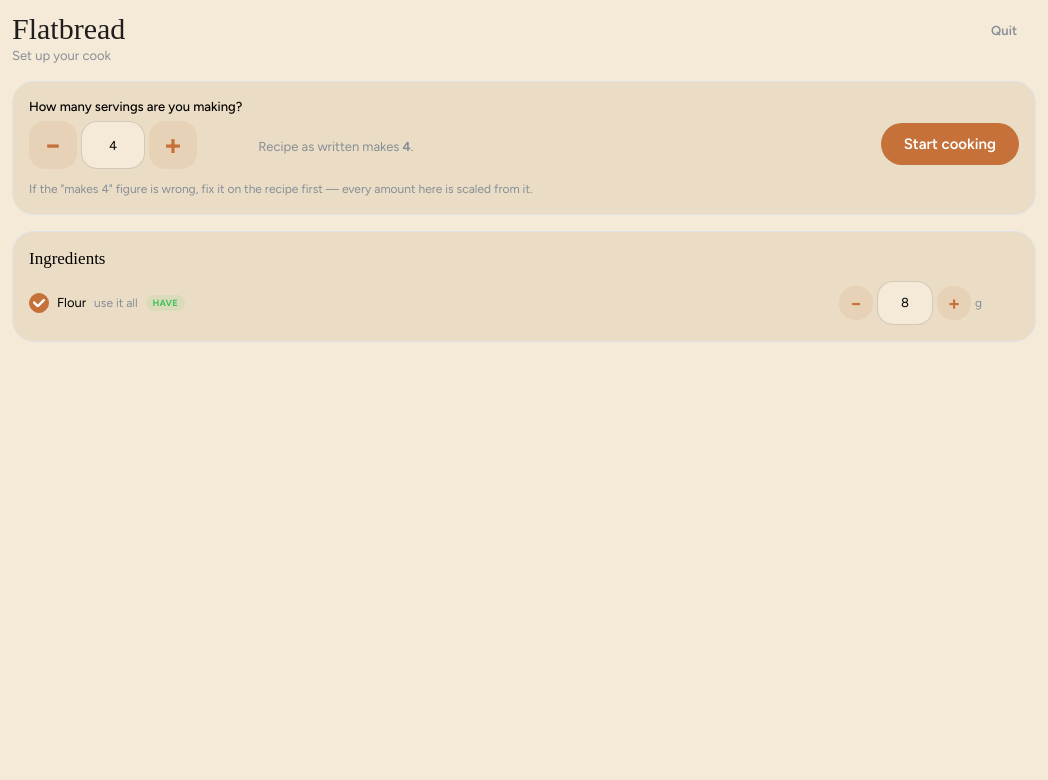
Test: CookAlongPage › does not touch the pantry until Finish
The image size is (1048, 780).
Expected: the heading "Flatbread" is shown, [12,12,125,46]
Click the button "Start cooking" at point(950, 144), box [881,123,1019,165]
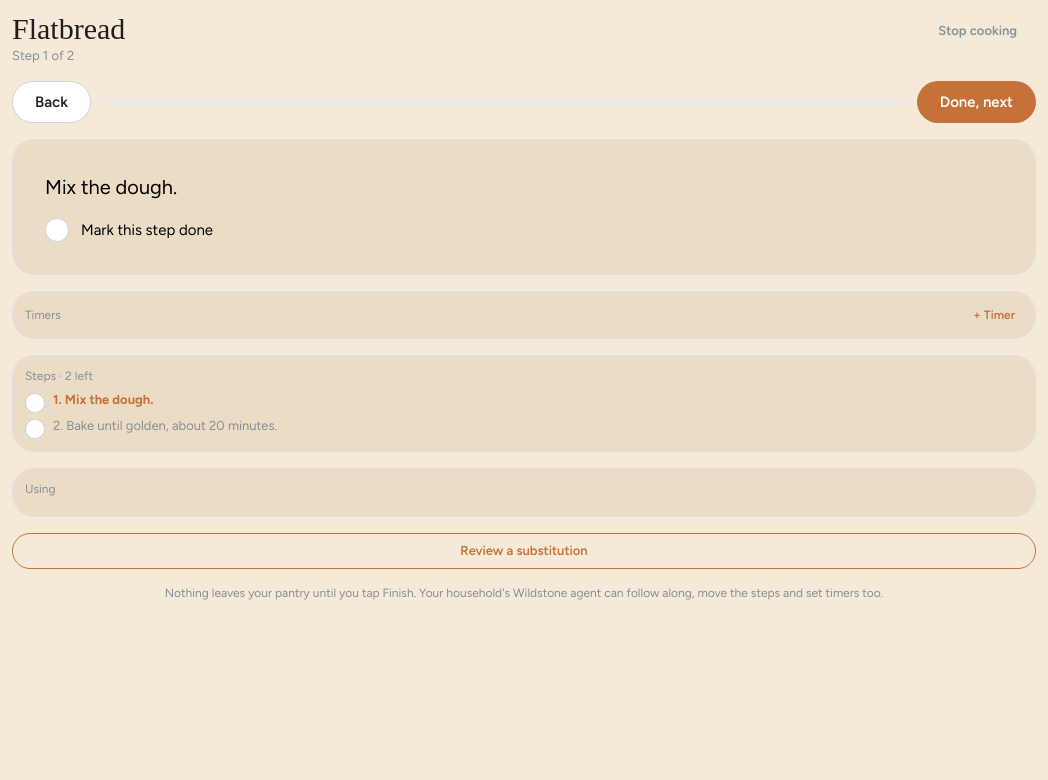
Click the button "Done, next" at point(976, 102), box [917,81,1036,123]
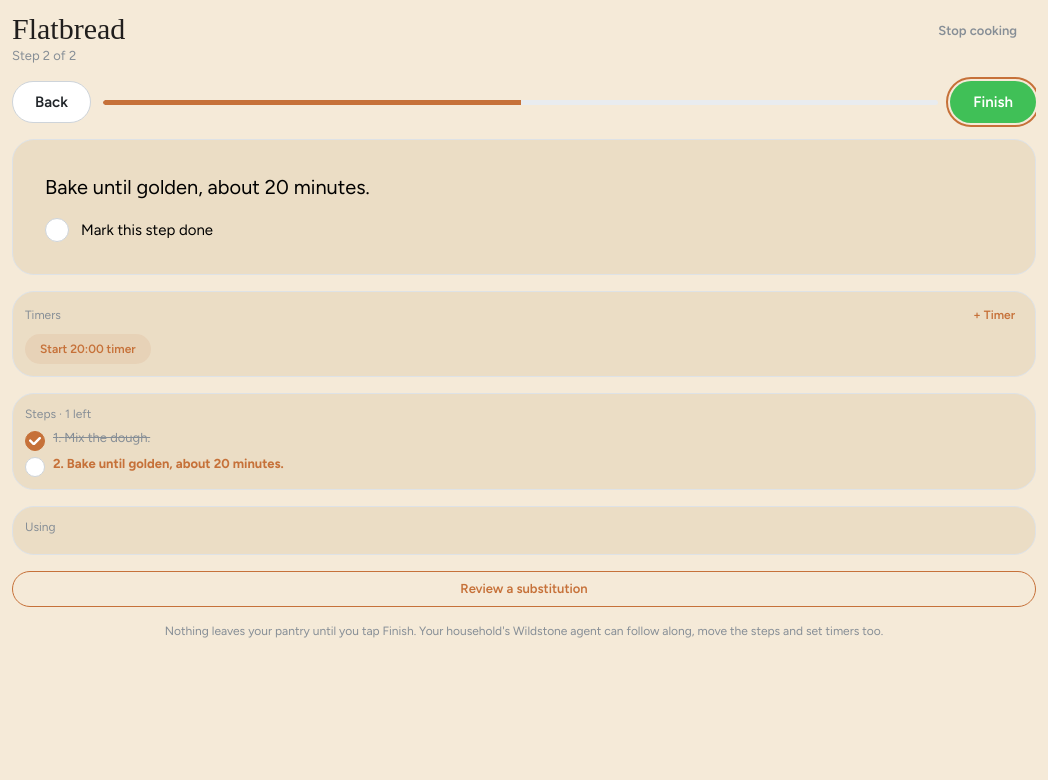
Click the button "Finish" at point(993, 102), box [950,81,1036,123]
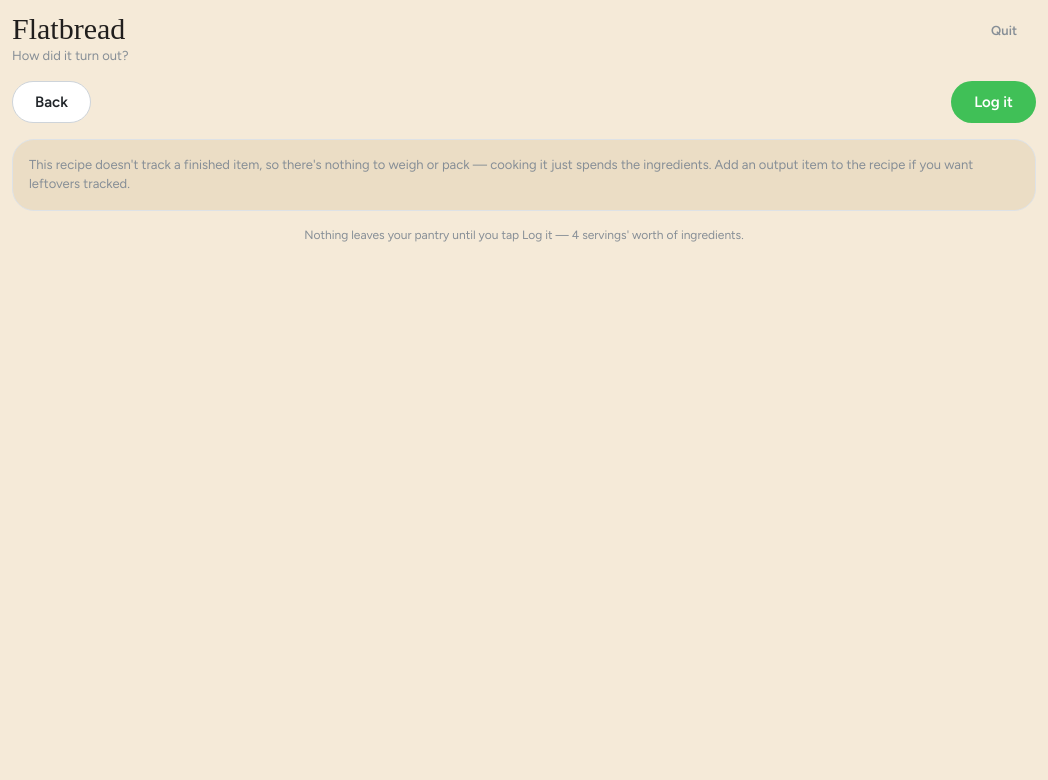
Now the text "How did it turn out?" is shown, box [12,46,128,65]
